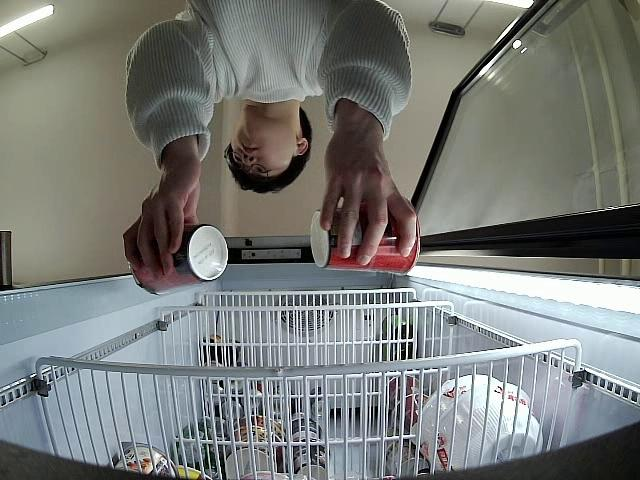00_hand: (319, 129, 413, 264), (124, 155, 199, 279)
02_shinRamen_S: (307, 205, 422, 277), (134, 227, 228, 298)
